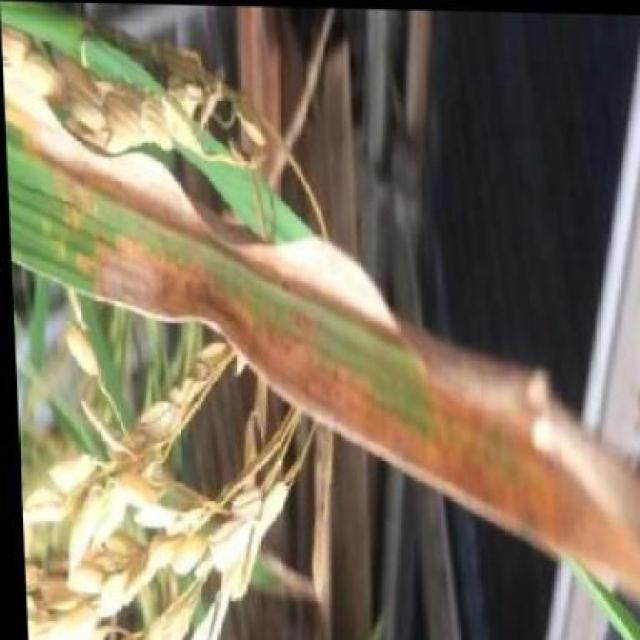Brown_Spot: (6, 169, 394, 340)
